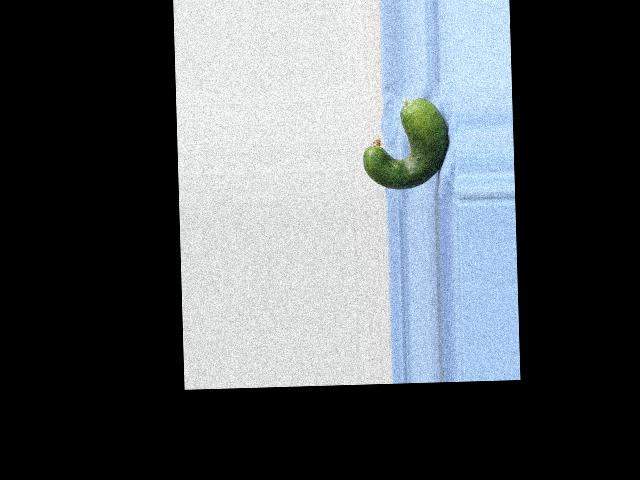cucumber: (361, 96, 449, 190)
